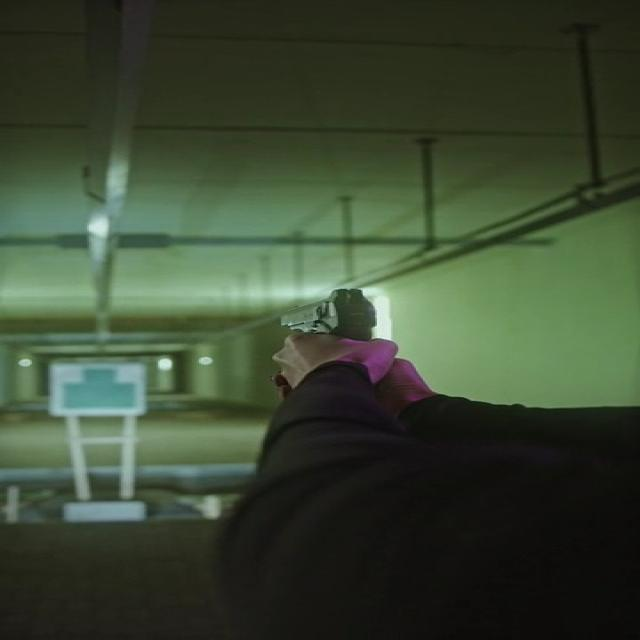Gun_Holder: (232, 276, 468, 432)
